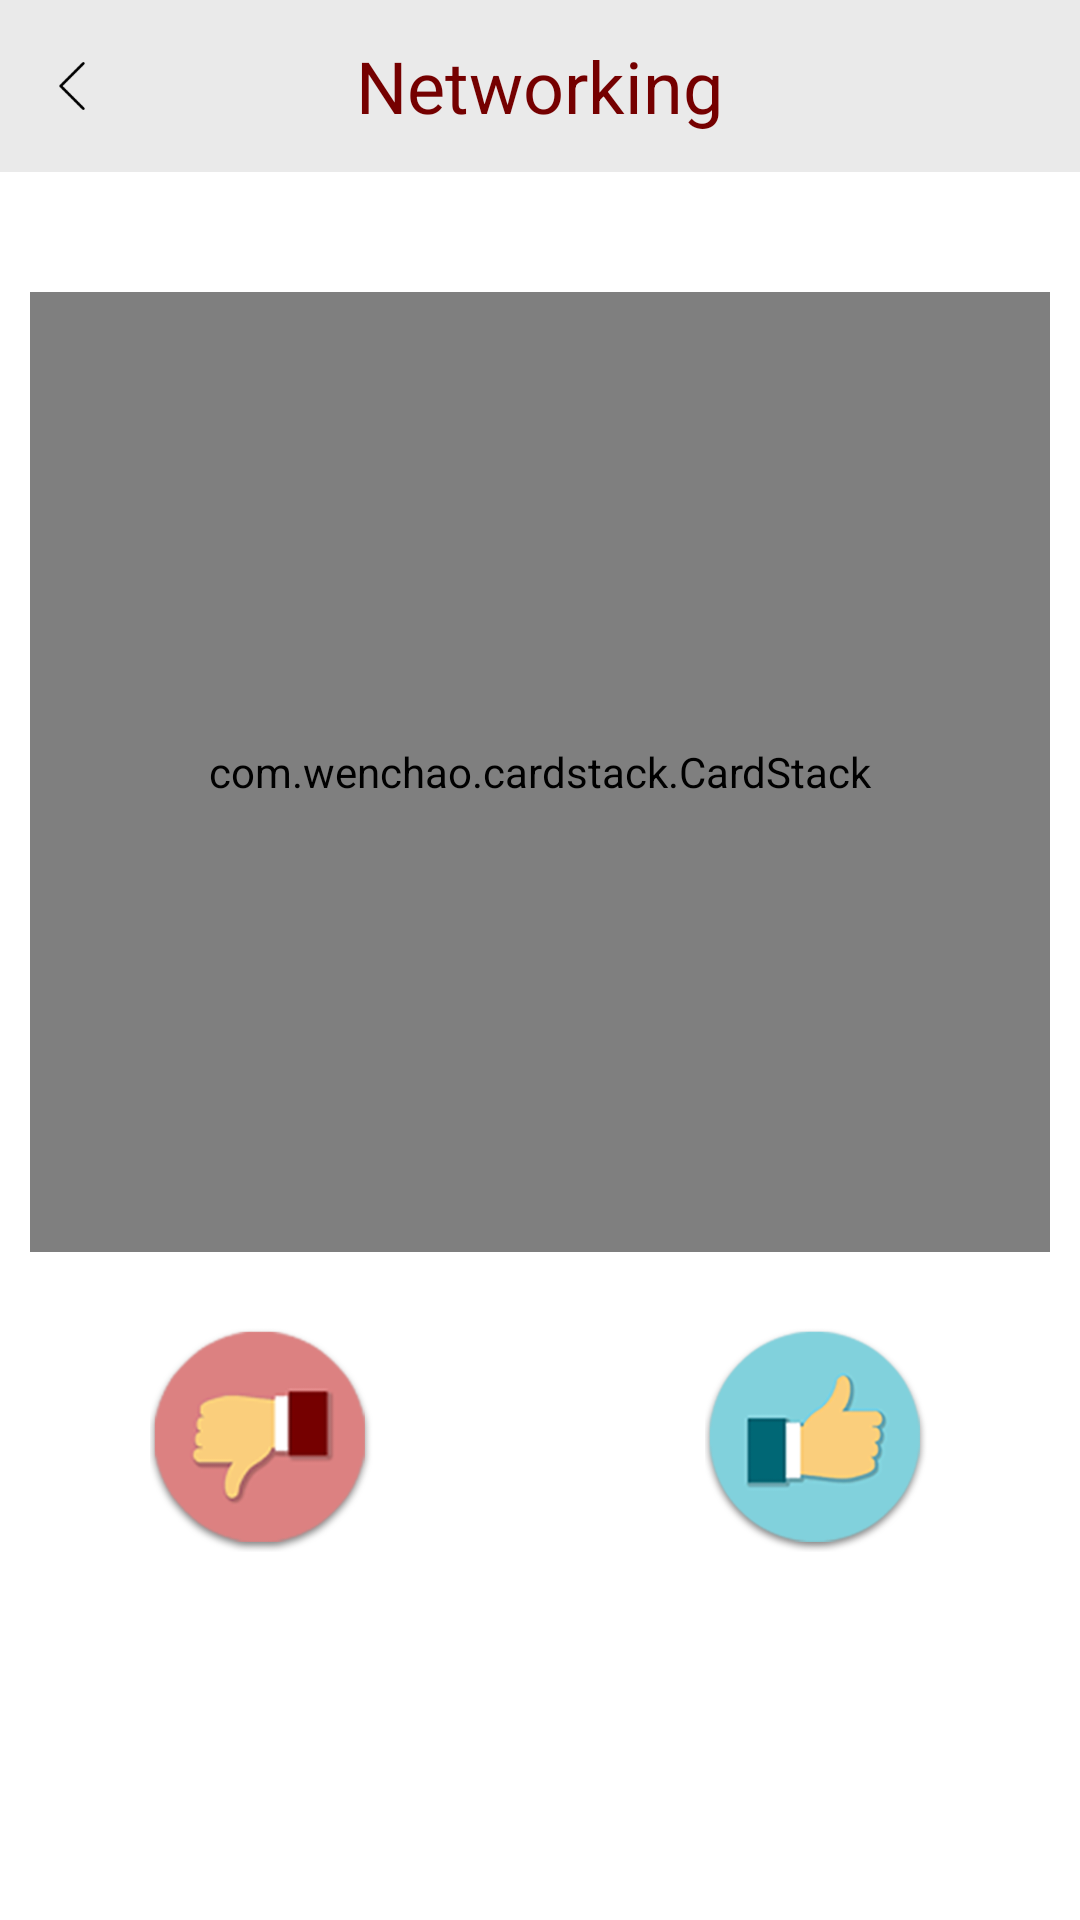

Named icons in this screenshot (1080 × 1920) and their centers, point (x, y):
back: point (72, 86)
dislike: point (259, 1440)
like: point (814, 1440)
